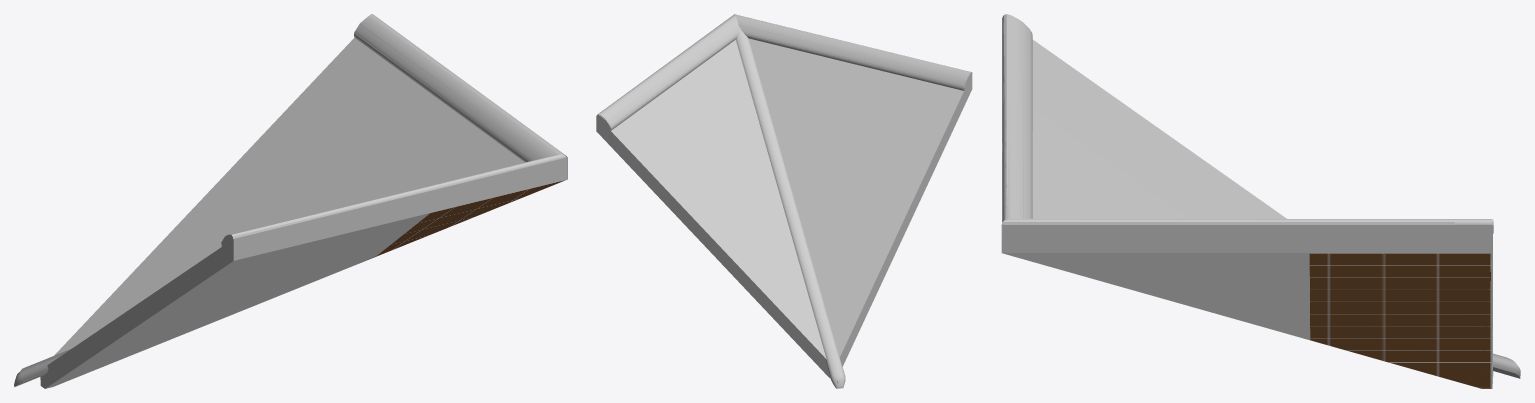
Rendered from SM_M01Roof01_4.fbx.
The picture shows the model from 3 angles, left to right: view 1: azimuth 30°, elevation 25°; view 2: azimuth 150°, elevation 25°; view 3: azimuth 270°, elevation 25°; orthographic projection. The views are drawn at different scales.
Parts seen in each view (by area): view 1: SM_M01Roof01_4_ConvexHulls, SM_M01Roof01_4; view 2: SM_M01Roof01_4_ConvexHulls, SM_M01Roof01_4; view 3: SM_M01Roof01_4, SM_M01Roof01_4_ConvexHulls.
Part boxes in pixels (x1,y1,x2,y2): SM_M01Roof01_4_ConvexHulls: [14, 14, 567, 388]; SM_M01Roof01_4: [14, 14, 566, 386]; SM_M01Roof01_4_ConvexHulls: [596, 14, 972, 388]; SM_M01Roof01_4: [599, 14, 969, 387]; SM_M01Roof01_4: [1002, 16, 1520, 388]; SM_M01Roof01_4_ConvexHulls: [1001, 14, 1519, 388].
Size of the model in its own units: 477 by 477 by 378.
